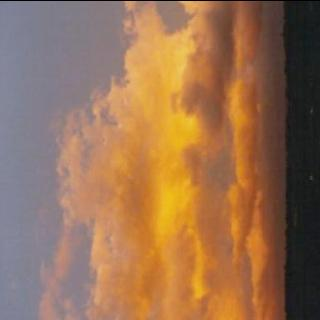Altostratus: (12, 0, 288, 320)
